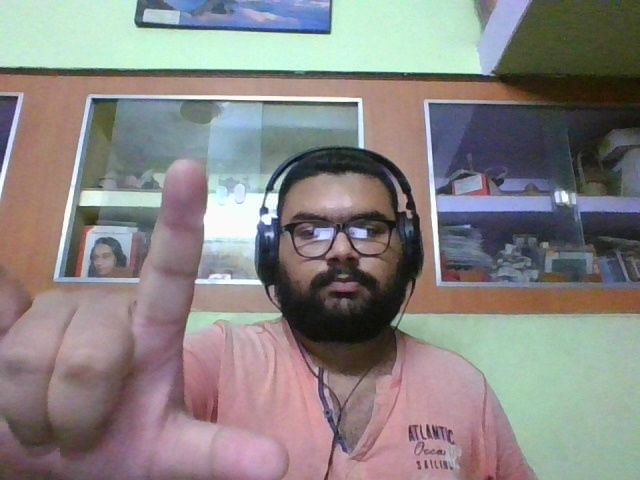hello: (1, 158, 288, 480)
